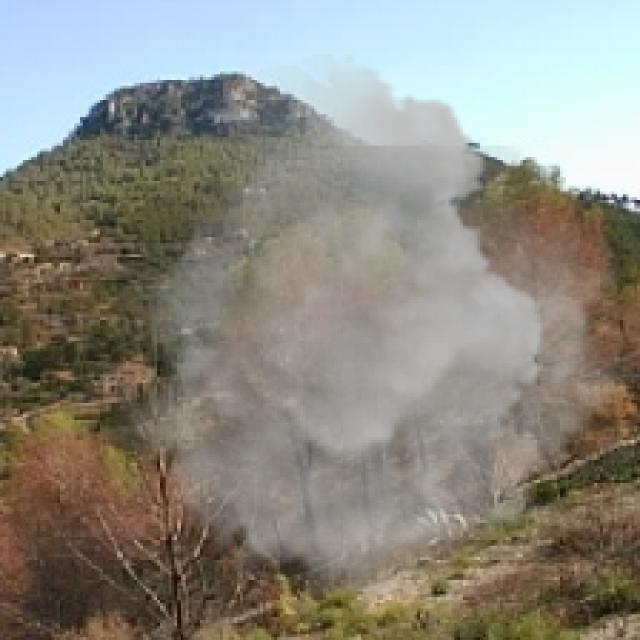Smoke: (112, 54, 638, 597)
